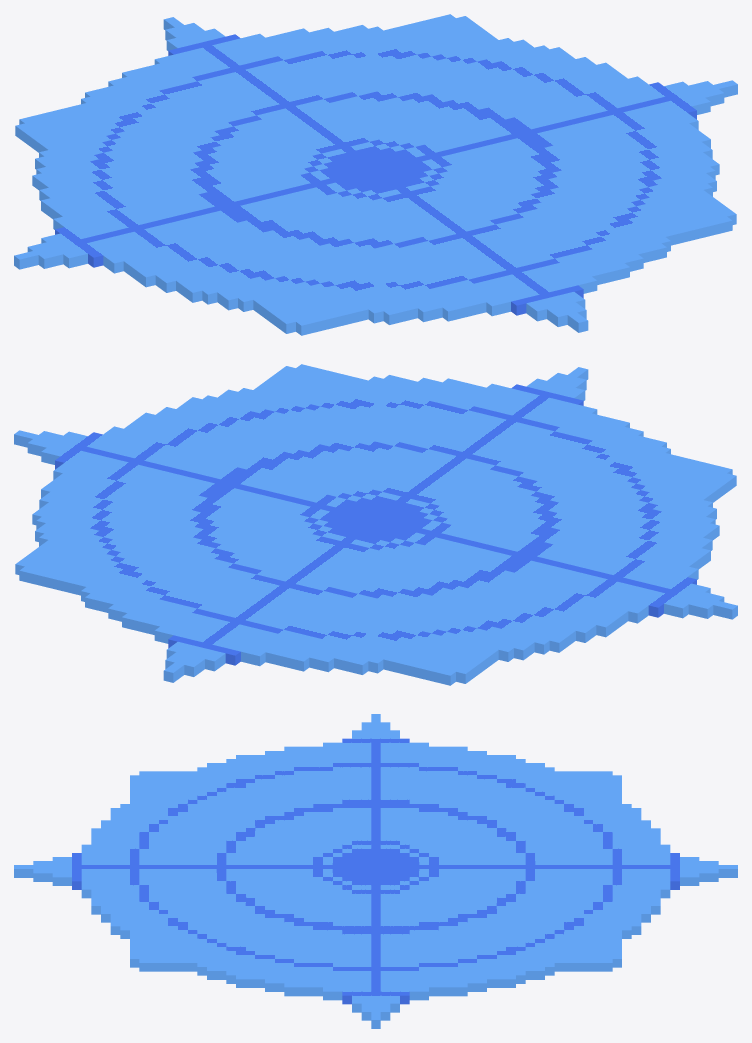
The model's file is 温迪大招.gltf.
3 views of the same model, one above another, from view 1: azimuth 30°, elevation 25°; view 2: azimuth 150°, elevation 25°; view 3: azimuth 270°, elevation 25° (orthographic). The views are drawn at different scales.
Visible parts, largest first — view 1: Object; view 2: Object; view 3: Object.
Part boxes in pixels (box(x1,y1,x2,y2)): Object: box(14, 14, 737, 335); Object: box(14, 364, 737, 685); Object: box(14, 714, 737, 1028).
Size of the model in its own units: 75 by 1 by 75.
1 material, 1 textured.
